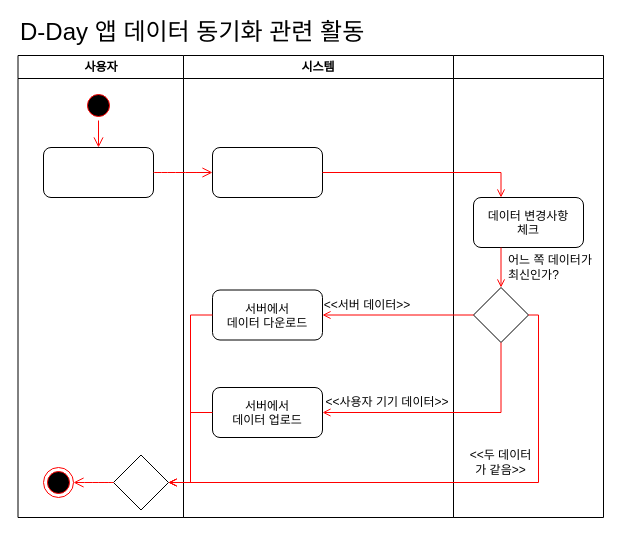
The diagram is 633 pixels wide and 535 high, and some of its shapes have lost their labels. Each missing label, with the box of its shape:
데이터 동기화 요청: (42, 146, 154, 198)
서버 시스템: (452, 54, 604, 518)
서버에 요청 전송: (212, 146, 322, 198)
